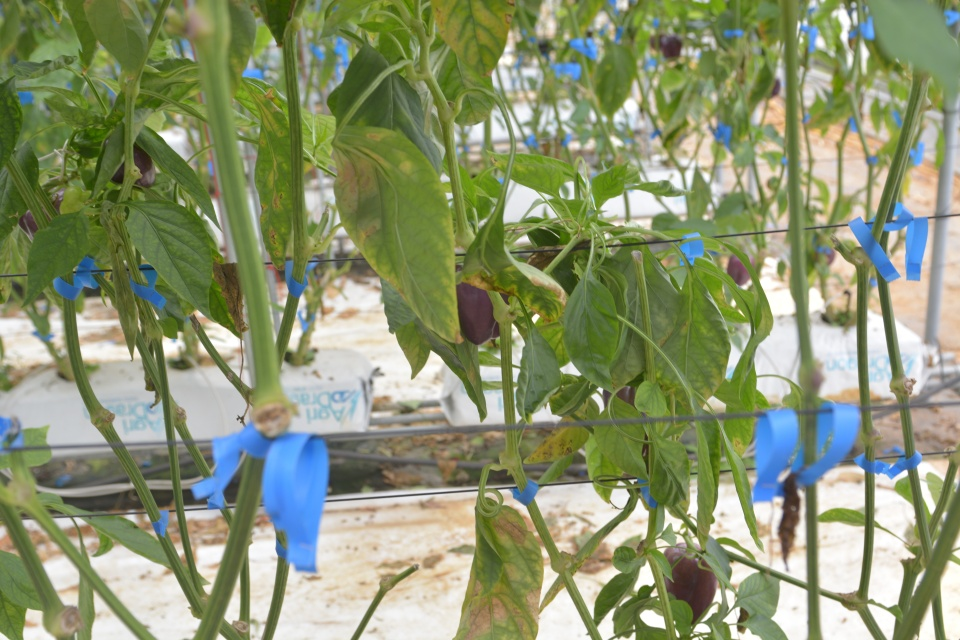fruit: (662, 540, 716, 625), (455, 264, 509, 346), (602, 383, 647, 456), (16, 187, 63, 242), (110, 140, 156, 188)
pedicle: (685, 546, 698, 554)
